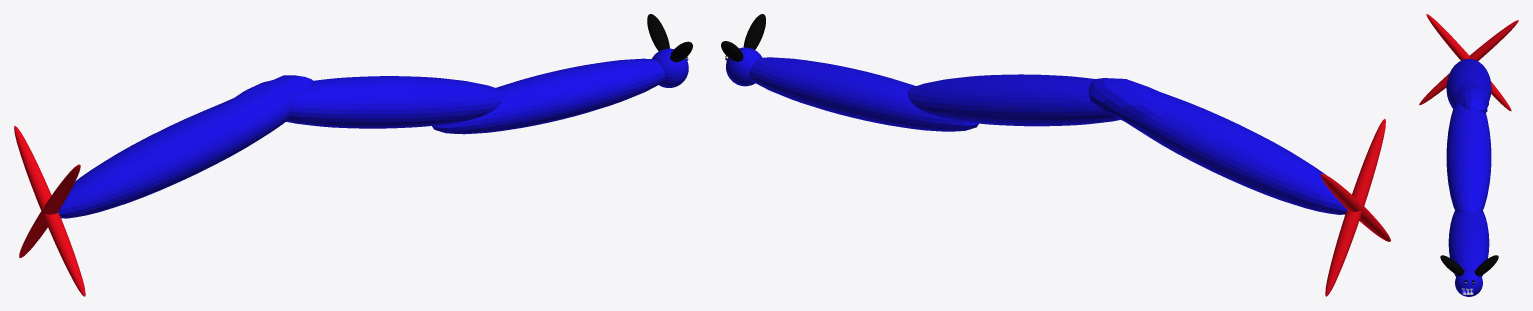
Rendered from sea leviathan.fbx.
3 renders of one model, left to right at view 1: azimuth 30°, elevation 25°; view 2: azimuth 150°, elevation 25°; view 3: azimuth 270°, elevation 25°, orthographic. The views are drawn at different scales.
Visible parts, largest first — view 1: Sphere.005, Sphere.003, Sphere, Sphere.004, Sphere.002, Sphere.001, Sphere.006; view 2: Sphere.005, Sphere.003, Sphere, Sphere.002, Sphere.004, Sphere.001, Sphere.007; view 3: Sphere.003, Sphere, Sphere.005, Sphere.004, Sphere.002, Sphere.001, Sphere.006, Sphere.007.
Part boxes in pixels (x1=…): Sphere.005: x1=58, y1=75, x2=314, y2=218; Sphere.003: x1=286, y1=76, x2=504, y2=128; Sphere: x1=432, y1=58, x2=664, y2=134; Sphere.004: x1=14, y1=126, x2=85, y2=296; Sphere.002: x1=19, y1=164, x2=80, y2=257; Sphere.001: x1=652, y1=48, x2=688, y2=87; Sphere.006: x1=647, y1=14, x2=669, y2=51; Sphere.005: x1=1088, y1=78, x2=1347, y2=214; Sphere.003: x1=907, y1=74, x2=1120, y2=126; Sphere: x1=749, y1=57, x2=978, y2=131; Sphere.002: x1=1325, y1=119, x2=1385, y2=296; Sphere.004: x1=1320, y1=173, x2=1390, y2=241; Sphere.001: x1=726, y1=47, x2=761, y2=86; Sphere.007: x1=743, y1=14, x2=765, y2=49; Sphere.003: x1=1446, y1=102, x2=1491, y2=212; Sphere: x1=1448, y1=211, x2=1489, y2=276; Sphere.005: x1=1446, y1=59, x2=1491, y2=113; Sphere.004: x1=1419, y1=20, x2=1518, y2=105; Sphere.002: x1=1426, y1=14, x2=1511, y2=111; Sphere.001: x1=1455, y1=269, x2=1482, y2=296; Sphere.006: x1=1474, y1=255, x2=1498, y2=276; Sphere.007: x1=1440, y1=255, x2=1464, y2=276.
Size of the model in its own units: 2309 by 485 by 437.
